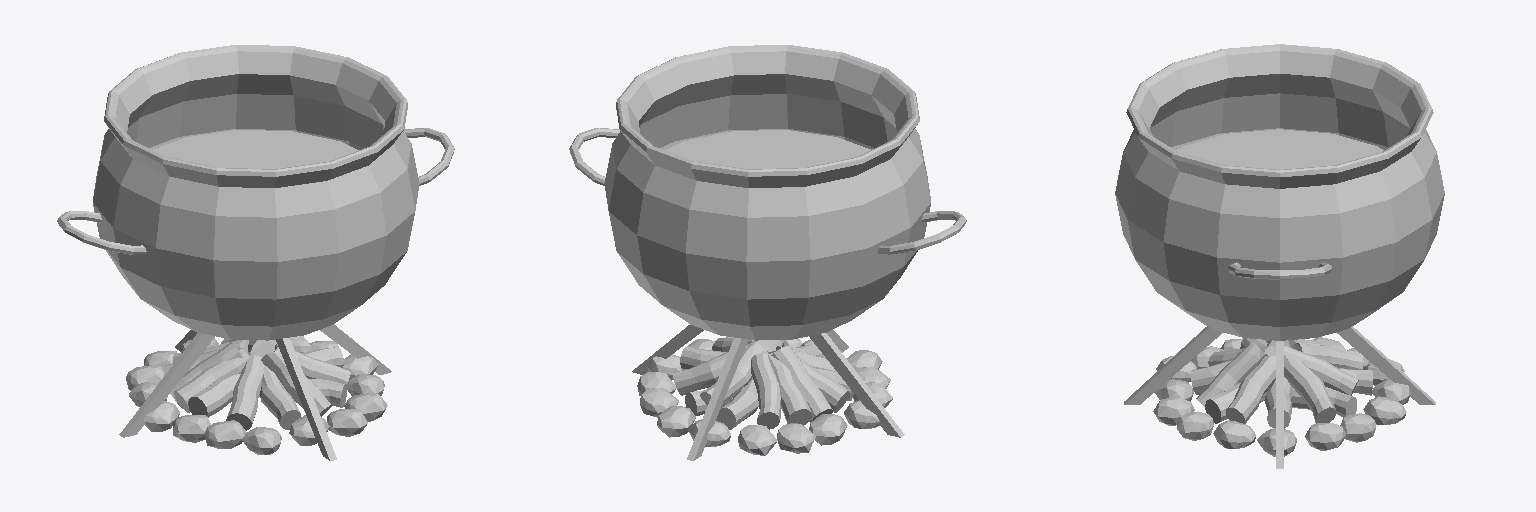
The model's file is P_Caldero.obj.
The picture shows the model from 3 angles: view 1: azimuth 30°, elevation 25°; view 2: azimuth 150°, elevation 25°; view 3: azimuth 270°, elevation 25°; orthographic projection.
Visible parts, largest first — view 1: Sphere; view 2: Sphere; view 3: Sphere.
Part boxes in pixels (bbox=[...]): Sphere: bbox=[57, 45, 454, 460]; Sphere: bbox=[569, 45, 966, 460]; Sphere: bbox=[1115, 44, 1444, 468].
Bounding box in the file's own units: 3.03 × 2.25 × 2.26.